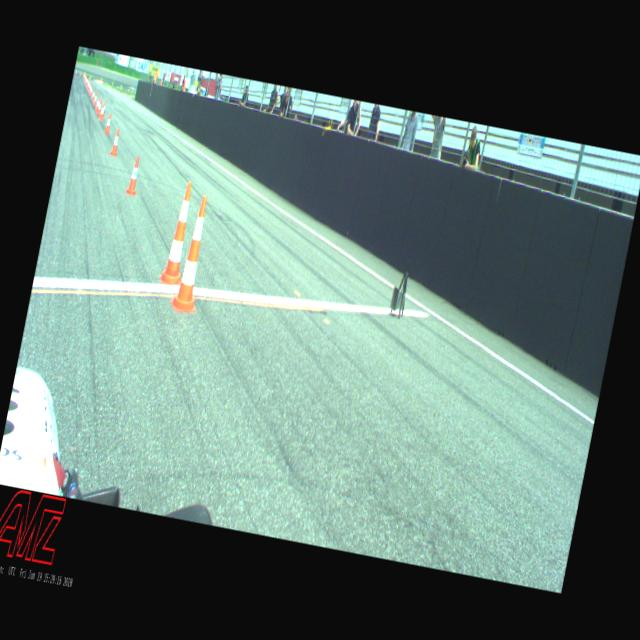large_orange_cone: (168, 193, 218, 314), (158, 180, 200, 288)
orange_cone: (125, 156, 144, 196), (110, 128, 122, 156), (104, 113, 113, 134), (98, 105, 105, 122), (96, 100, 103, 115), (94, 98, 100, 111), (92, 94, 99, 105), (102, 101, 106, 118), (91, 90, 96, 100), (90, 86, 94, 96)
